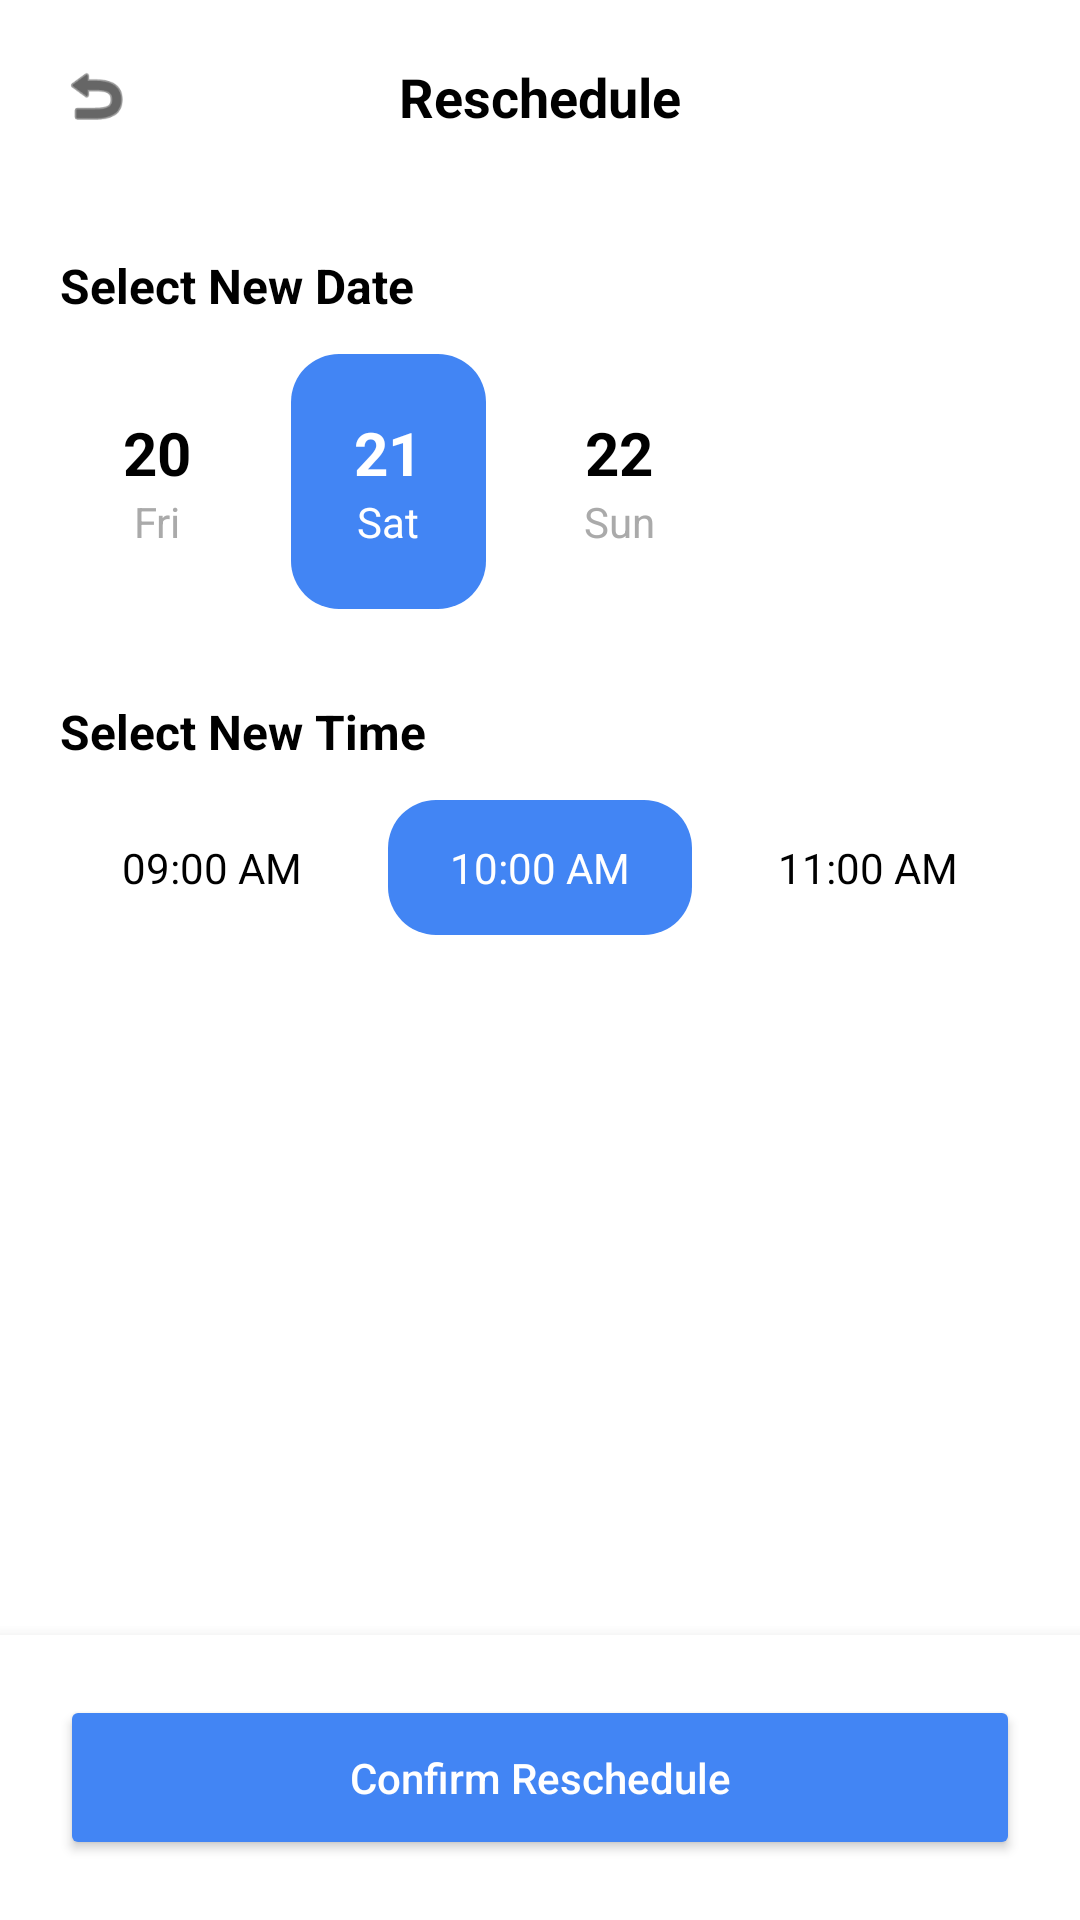

Icon bounding boxes for this 1080×1920 phone screenshot, format Rect(x1, y1, x2, y2):
revert: Rect(71, 73, 123, 120)
